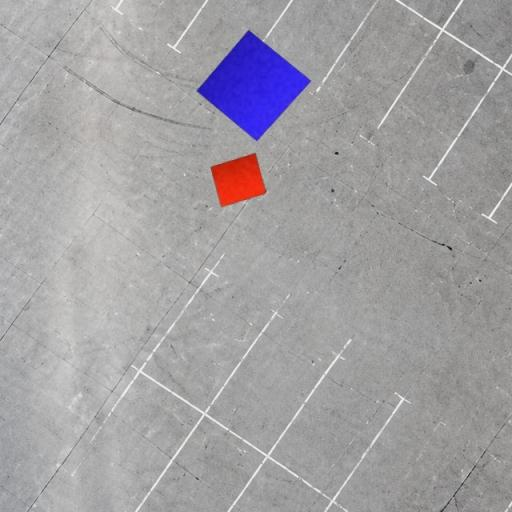BLUE_SQUARE: (196, 30, 312, 142)
RED_SQUARE: (210, 153, 268, 208)
